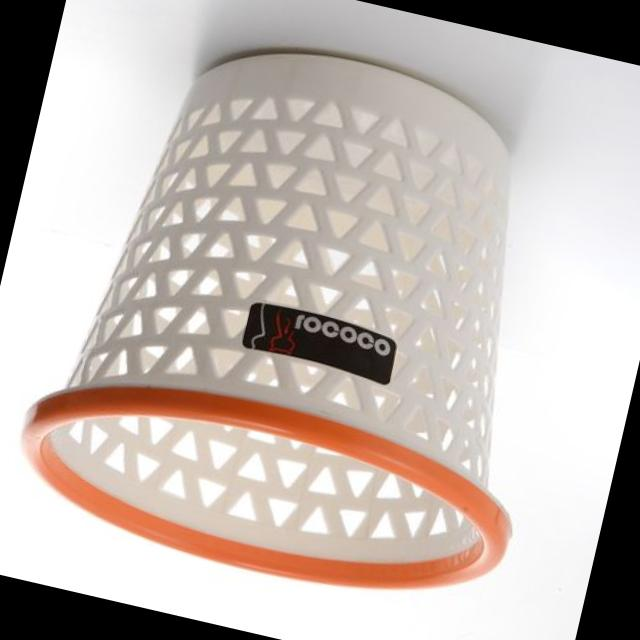dustbin: (0, 0, 619, 634)
